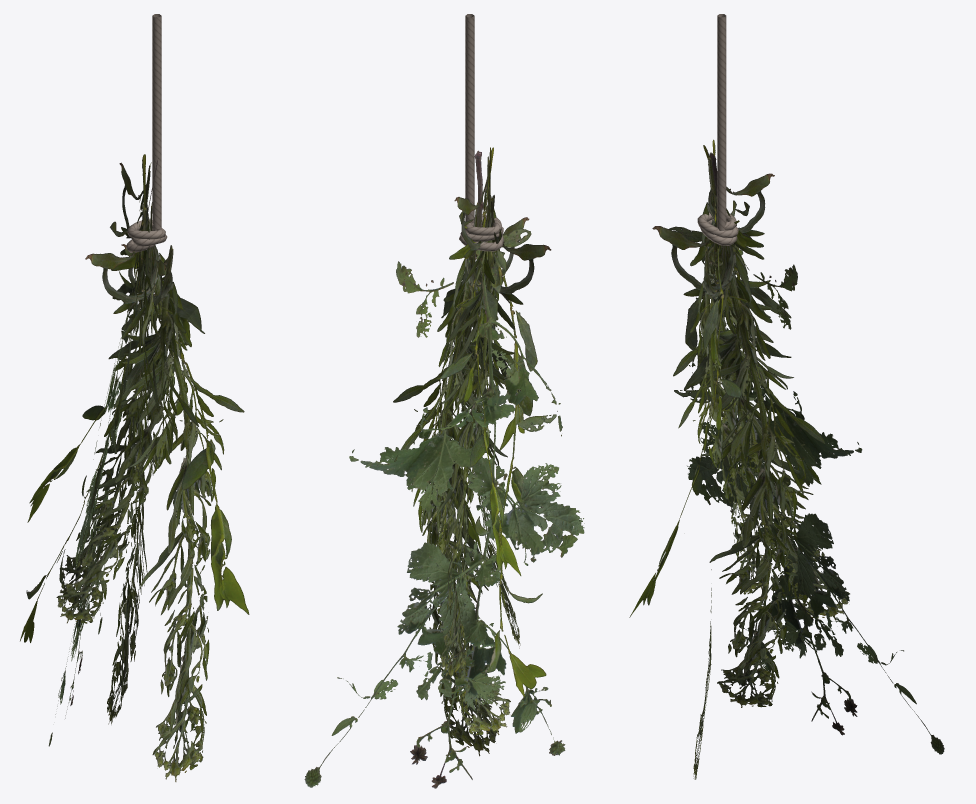
Rendered from SM_HangingBouquet.fbx.
3 views of the same model, side by side, from view 1: azimuth 30°, elevation 25°; view 2: azimuth 150°, elevation 25°; view 3: azimuth 270°, elevation 25° (orthographic).
Parts seen in each view (by area): view 1: SM_HangingBouquet; view 2: SM_HangingBouquet; view 3: SM_HangingBouquet.
Part boxes in pixels (left/top/right/bottom): SM_HangingBouquet: left=20, top=14, right=249, bottom=781; SM_HangingBouquet: left=304, top=14, right=584, bottom=788; SM_HangingBouquet: left=629, top=14, right=944, bottom=779.
Size of the model in its own units: 39.12 by 58.24 by 146.
